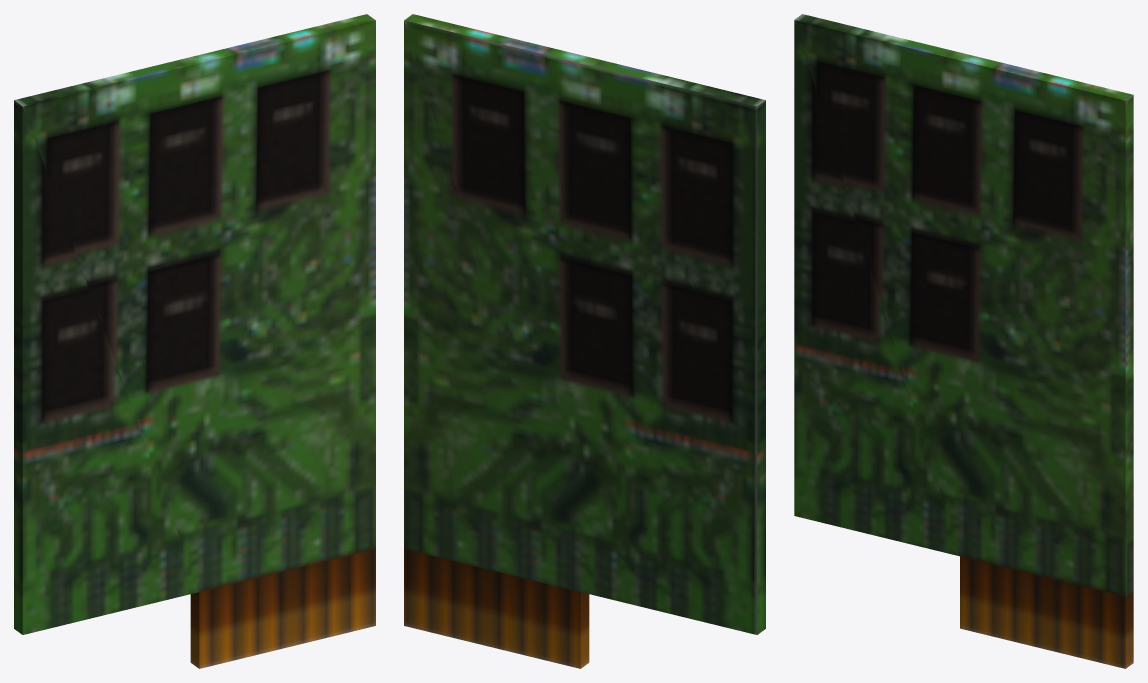
The model's file is acs33.obj.
3 renders of one model, left to right at view 1: azimuth 30°, elevation 25°; view 2: azimuth 150°, elevation 25°; view 3: azimuth 330°, elevation 25°, orthographic. The views are drawn at different scales.
Parts seen in each view (by area): view 1: frm-card; view 2: frm-card; view 3: frm-card.
Part boxes in pixels (bbox=[...]): frm-card: bbox=[14, 14, 375, 668]; frm-card: bbox=[404, 14, 765, 668]; frm-card: bbox=[794, 14, 1133, 668].
Size of the model in its own units: 2 by 3.28 by 0.085.
Materials: 1 (1 with a texture image).
